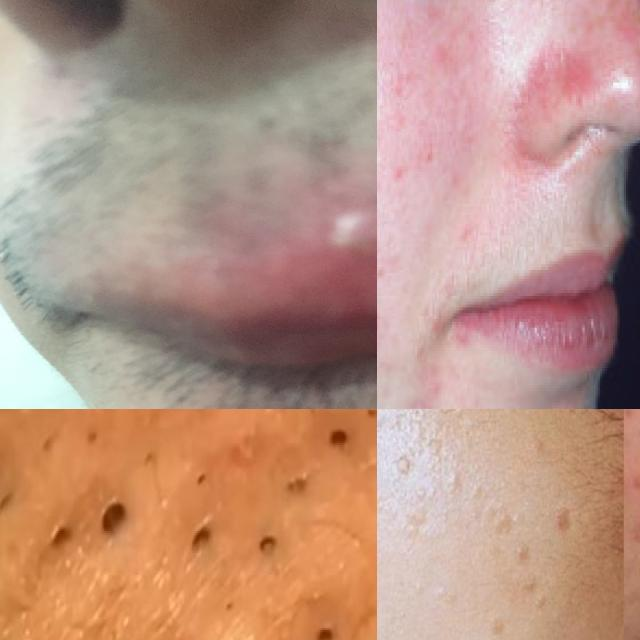comedone: (85, 481, 135, 547), (189, 516, 222, 568), (416, 572, 453, 618), (42, 513, 80, 556), (431, 452, 466, 498), (322, 422, 357, 464), (285, 472, 313, 512), (256, 527, 284, 565), (459, 477, 483, 508), (307, 628, 348, 640)
flat_wart: (377, 436, 426, 490), (501, 536, 545, 577)
papule: (623, 480, 640, 559)
